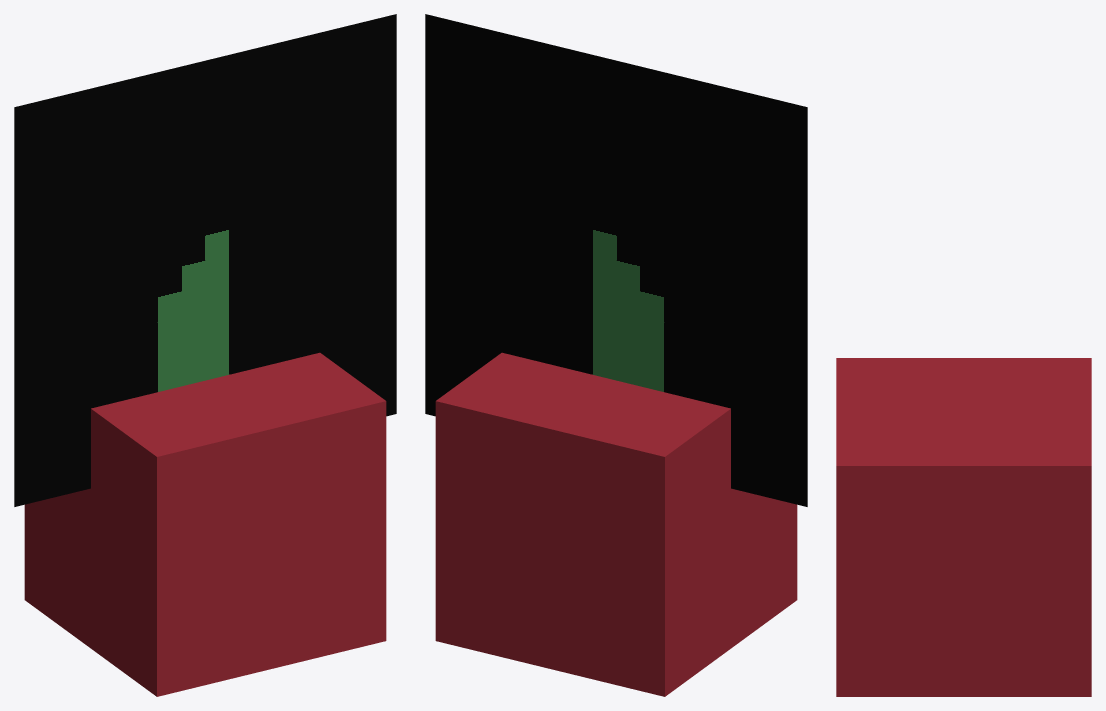
The model's file is object_apple.glb.
3 views of the same model, side by side, from view 1: azimuth 30°, elevation 25°; view 2: azimuth 150°, elevation 25°; view 3: azimuth 270°, elevation 25° (orthographic). The views are drawn at different scales.
Parts seen in each view (by area): view 1: apple; view 2: apple; view 3: apple.
Boxes of the visible parts, x1,y1,x2,y2 form: apple: [14, 14, 396, 696]; apple: [425, 14, 807, 696]; apple: [836, 358, 1091, 696].
Bounding box in the file's own units: 0.25 × 0.35 × 0.15.
2 materials, 1 textured.
